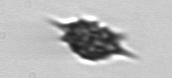plankton: (43, 10, 146, 66)
